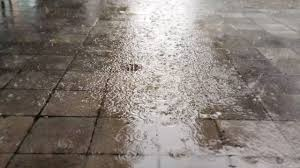Wet-floor: (33, 2, 289, 149)
